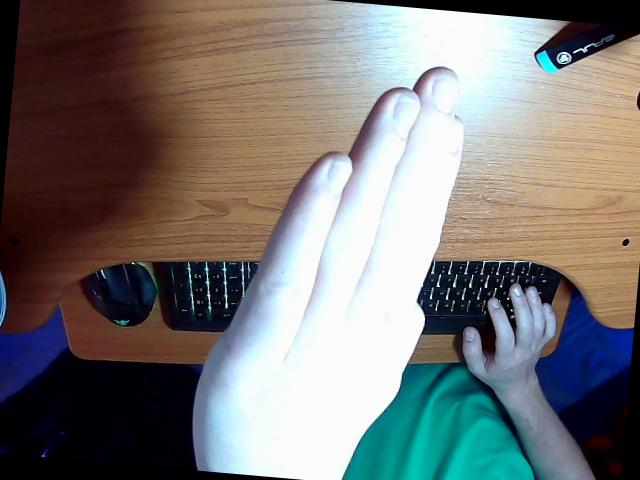paper: (192, 68, 594, 480)
